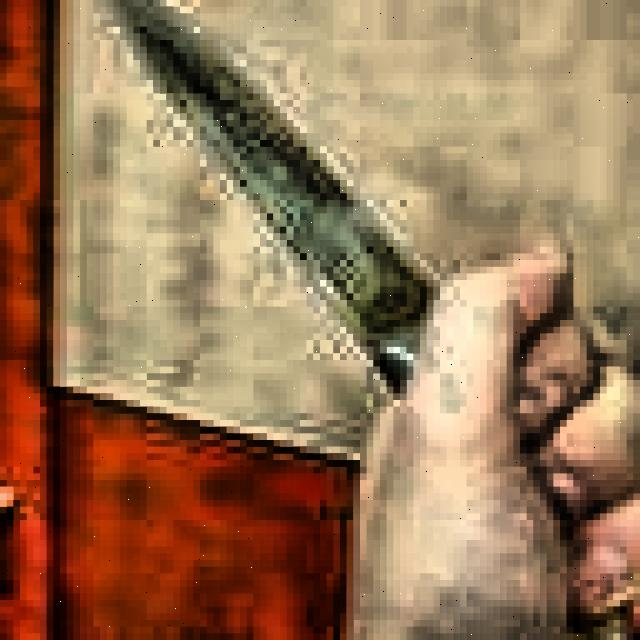knife: (114, 0, 634, 640)
